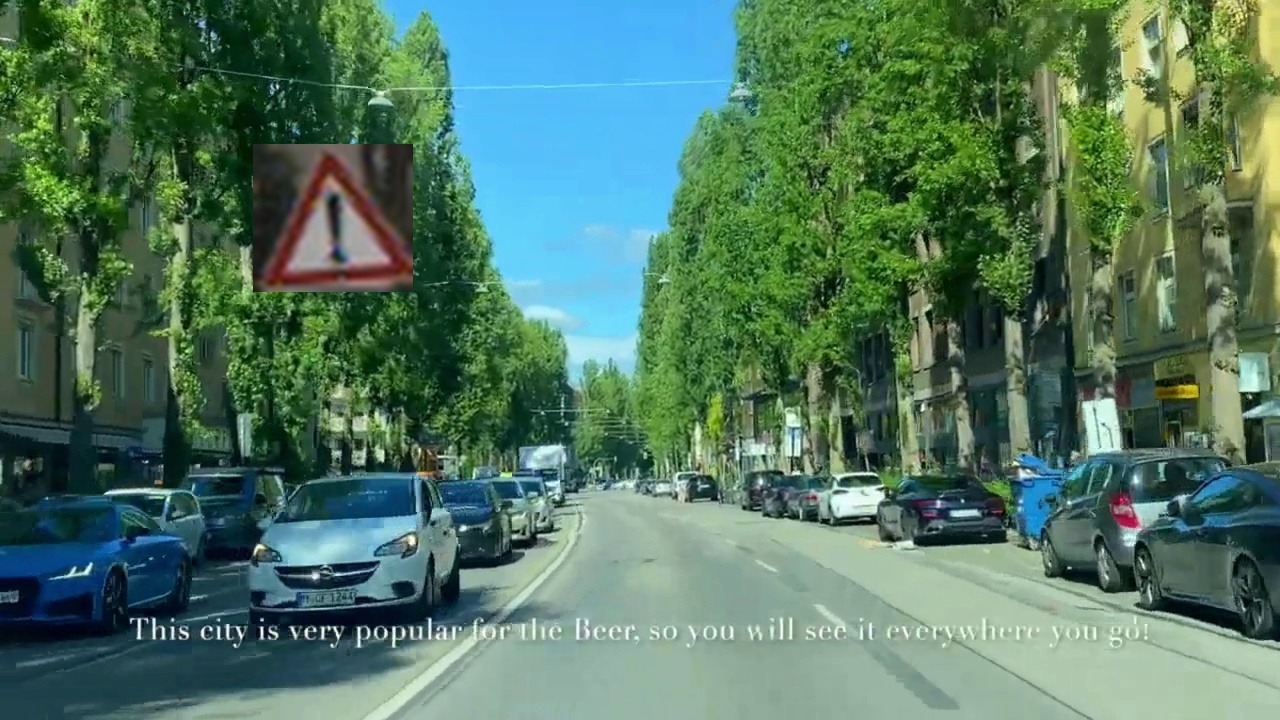Caution: (253, 144, 413, 292)
